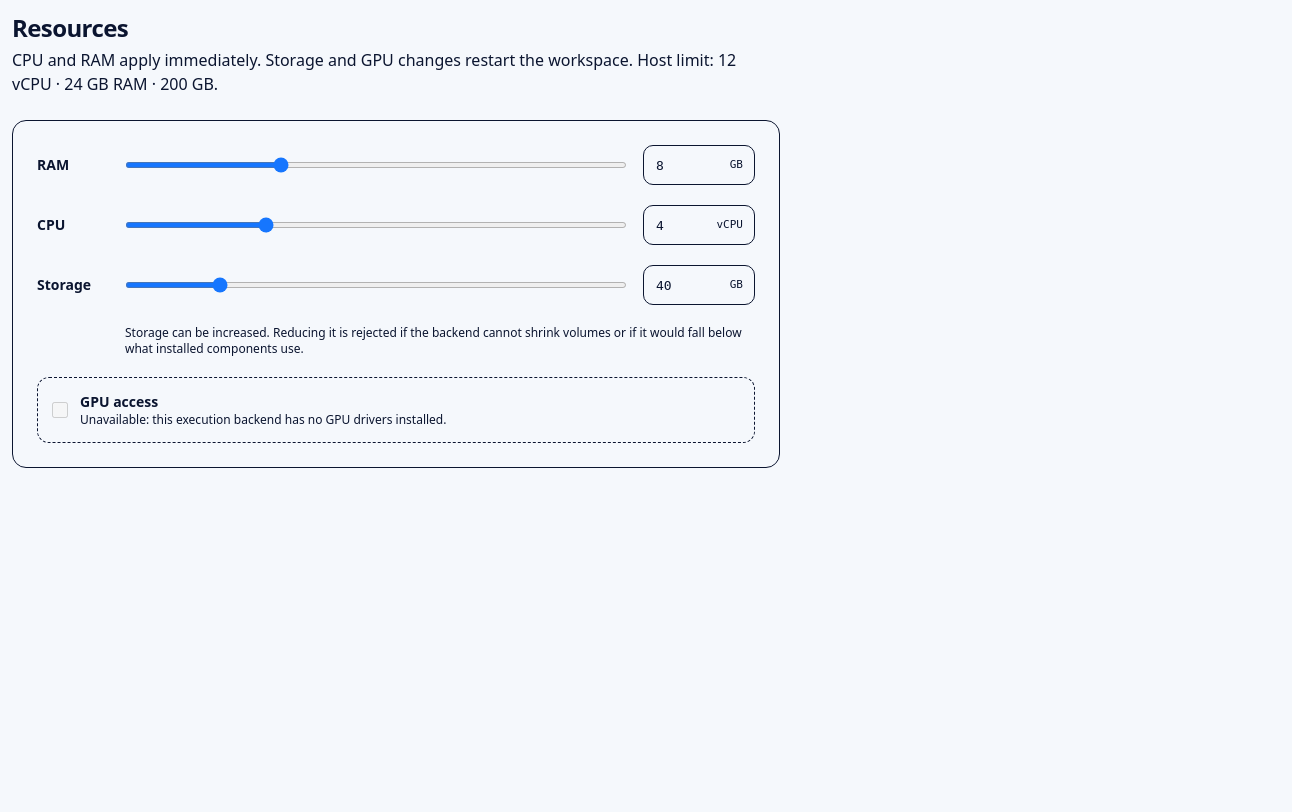
Scenario: ResourcesTab › Discard restores the current values
Replace the text in the number field labelled "RAM" with "12": [699, 165] box [643, 145, 755, 185]
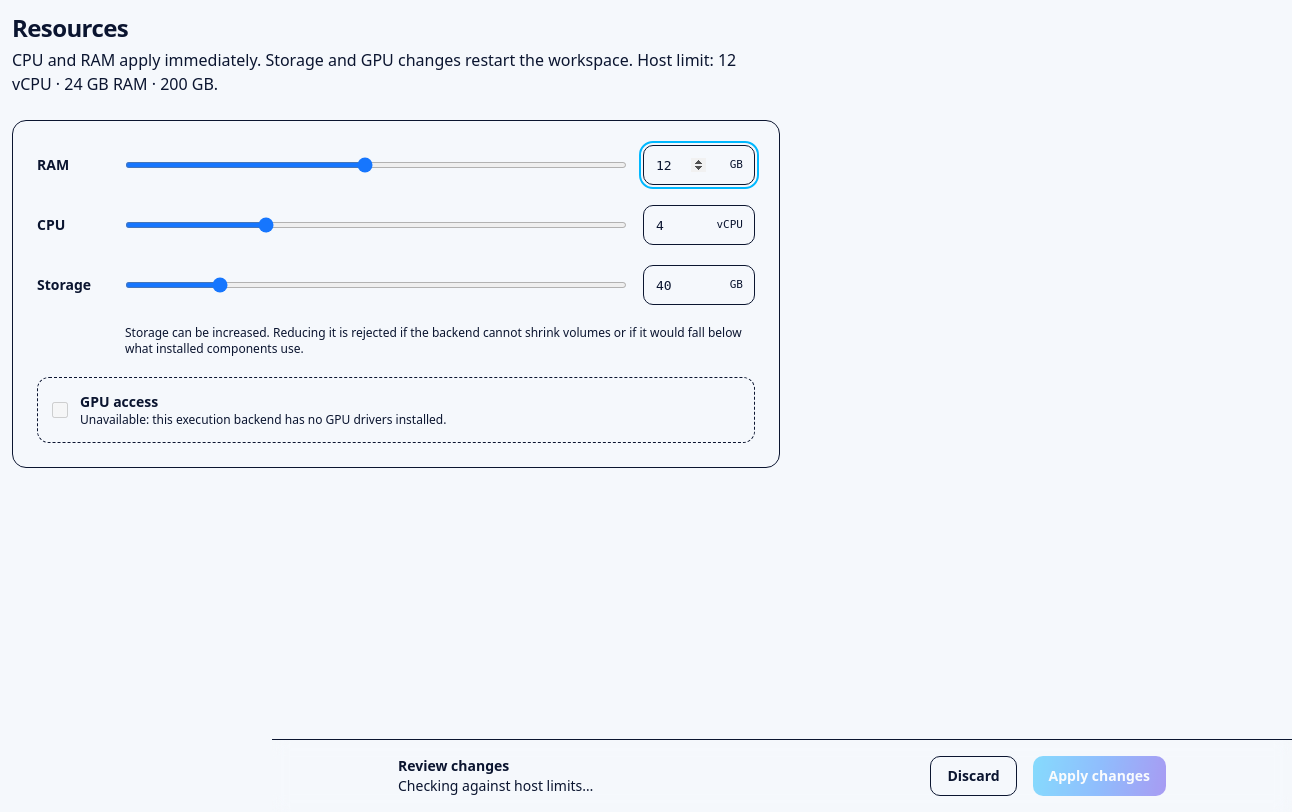
Click the button "Discard": [974, 776] box [930, 756, 1017, 796]
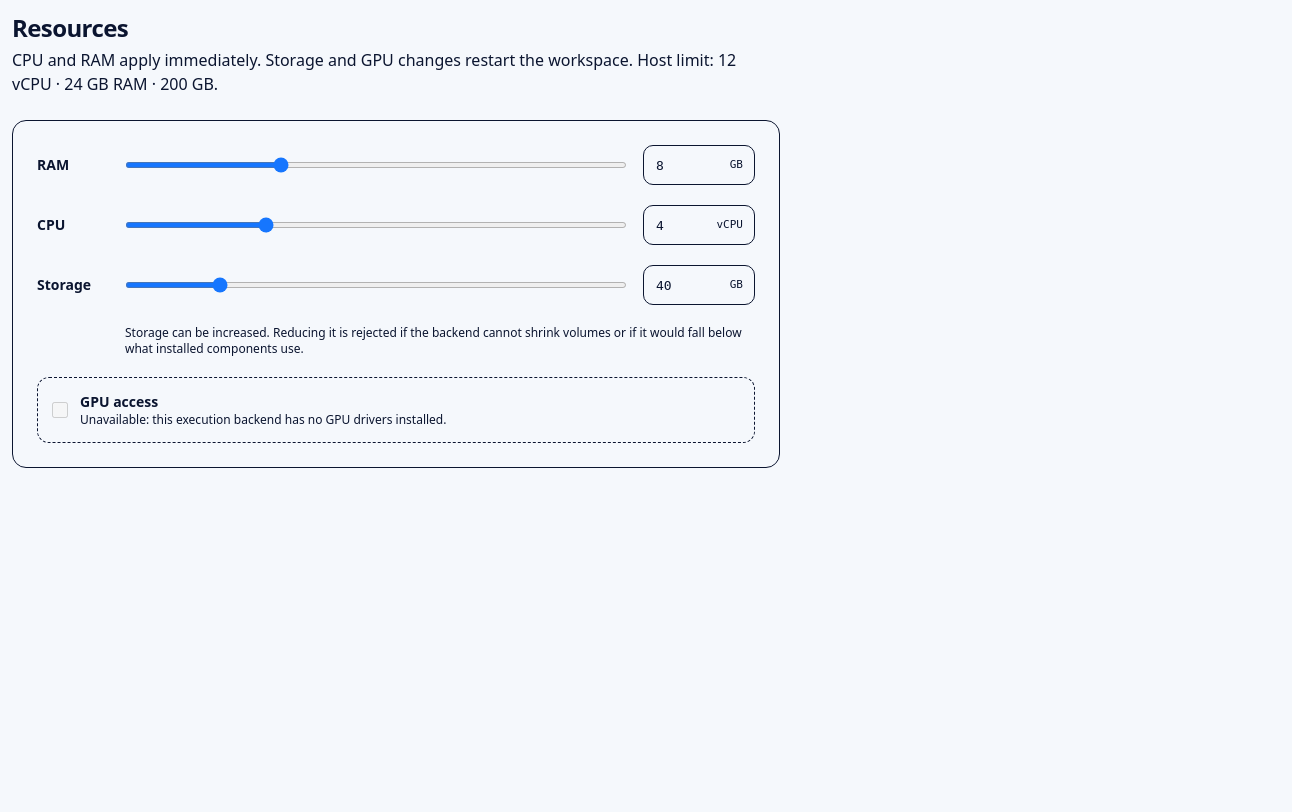
Expected: the number field labelled "RAM" holds "8", [643, 145, 755, 185]
Expected: the text "Review changes" is gone
